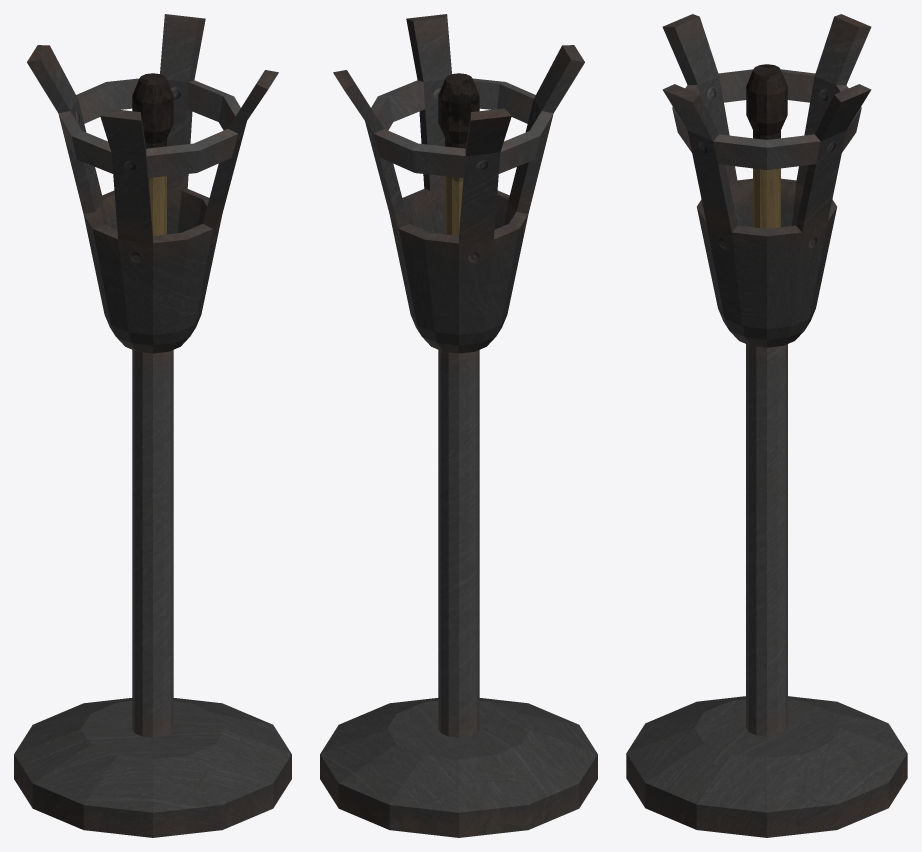
The model's file is torchholder.obj.
3 views of the same model, side by side, from view 1: azimuth 30°, elevation 25°; view 2: azimuth 150°, elevation 25°; view 3: azimuth 270°, elevation 25° (orthographic).
Parts seen in each view (by area): view 1: torchholdermesh; view 2: torchholdermesh; view 3: torchholdermesh.
Part boxes in pixels (bbox=[...]): torchholdermesh: bbox=[14, 14, 291, 837]; torchholdermesh: bbox=[320, 14, 597, 837]; torchholdermesh: bbox=[626, 14, 907, 837].
Size of the model in its own units: 1 by 2.84 by 1.
Materials: 1 (1 with a texture image).
